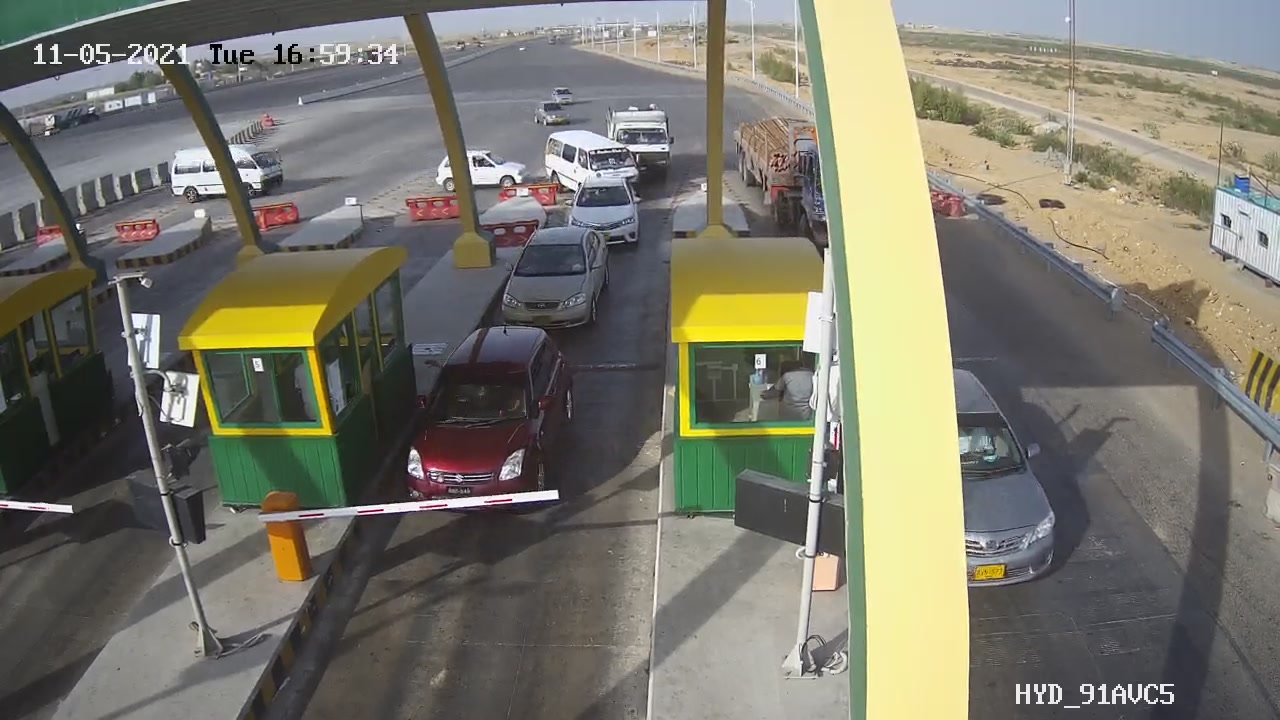F1: (392, 308, 592, 532), (492, 215, 626, 353), (553, 167, 652, 256)
